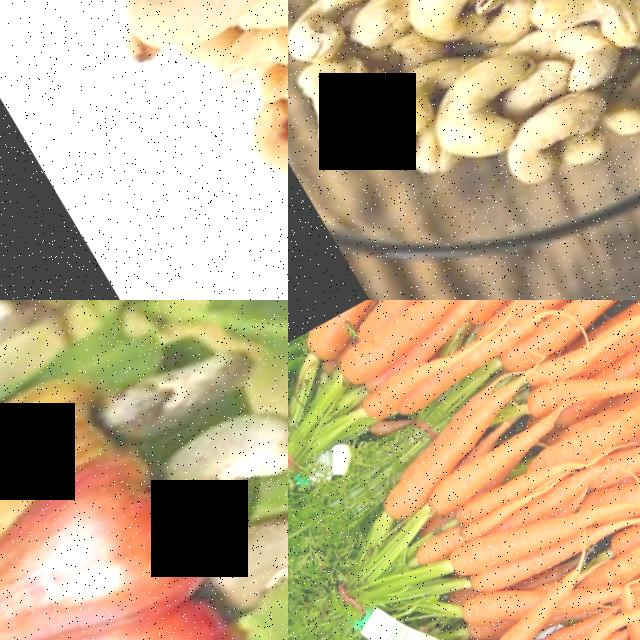carrot: (353, 307, 525, 423), (449, 471, 613, 587), (358, 393, 517, 512), (514, 316, 640, 443), (328, 300, 512, 384), (470, 504, 615, 601), (419, 412, 553, 510), (517, 300, 640, 393), (406, 481, 528, 570), (495, 300, 640, 373), (569, 403, 640, 543), (453, 443, 567, 525), (451, 558, 561, 640), (465, 592, 640, 640), (557, 369, 640, 467), (471, 300, 636, 335), (585, 410, 640, 492), (599, 455, 640, 560), (577, 537, 640, 600), (435, 612, 554, 640)
cashew: (72, 304, 257, 468), (135, 391, 288, 548), (471, 78, 635, 217), (422, 42, 555, 165), (97, 0, 288, 76), (185, 494, 288, 621), (218, 102, 288, 228), (530, 0, 640, 74), (368, 68, 451, 150), (397, 0, 490, 52)
